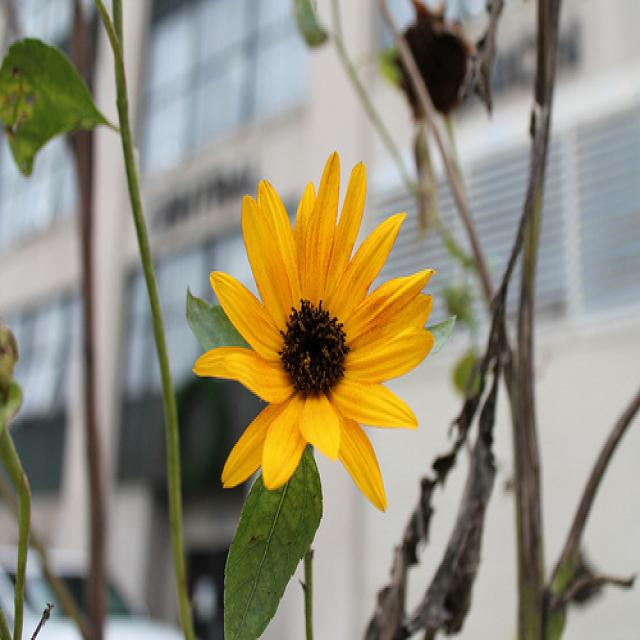sunflower: (194, 158, 457, 524)
